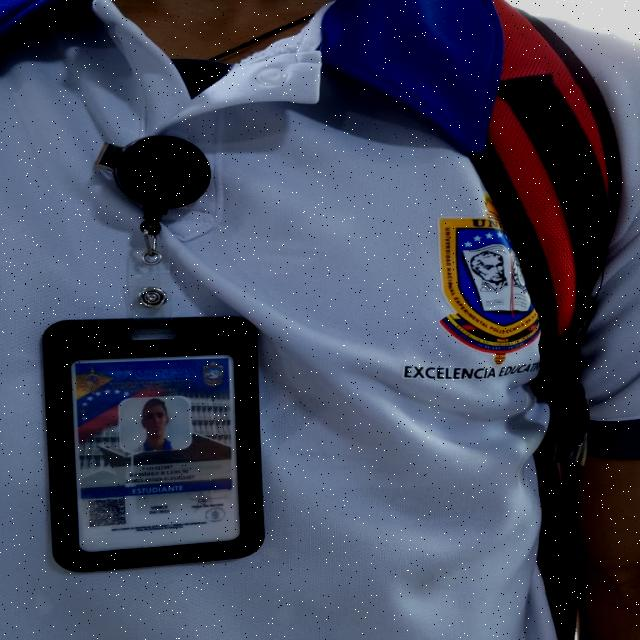carnet: (73, 355, 242, 553)
